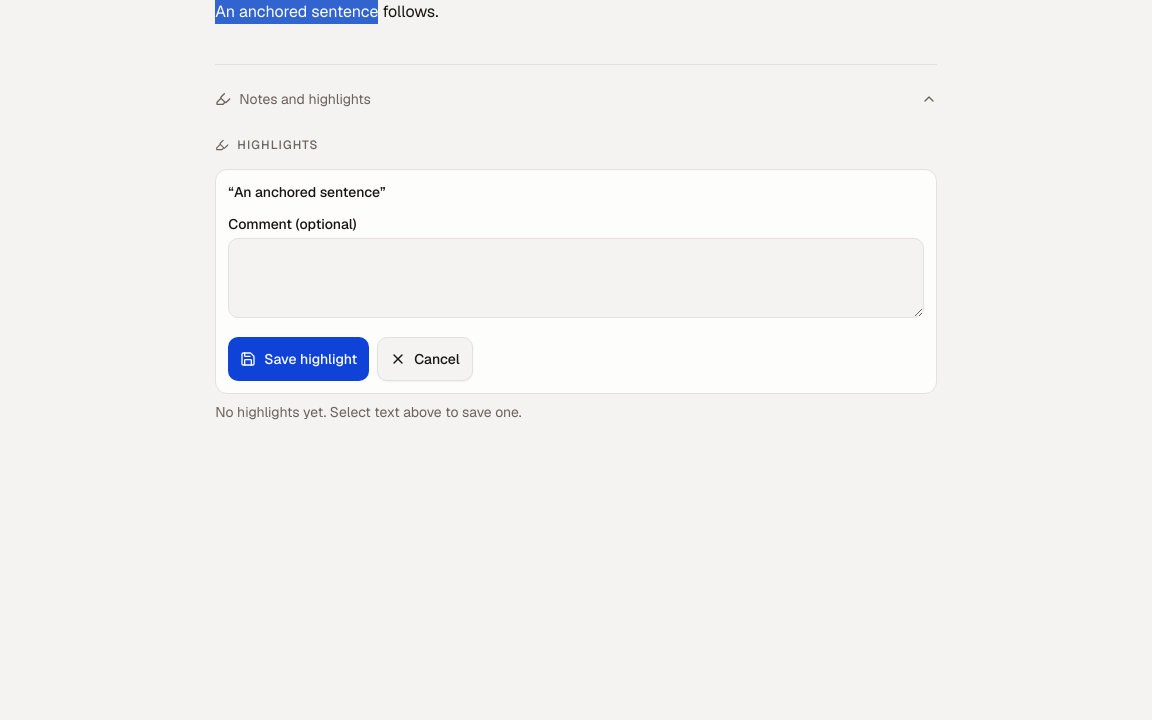
Scenario: ReaderAnnotations › waits for an in-flight stale annotation read before creating a highlight
The width and height of the screenshot is (1152, 720).
Click the button "Save highlight" at (299, 359), box [228,337,369,381]
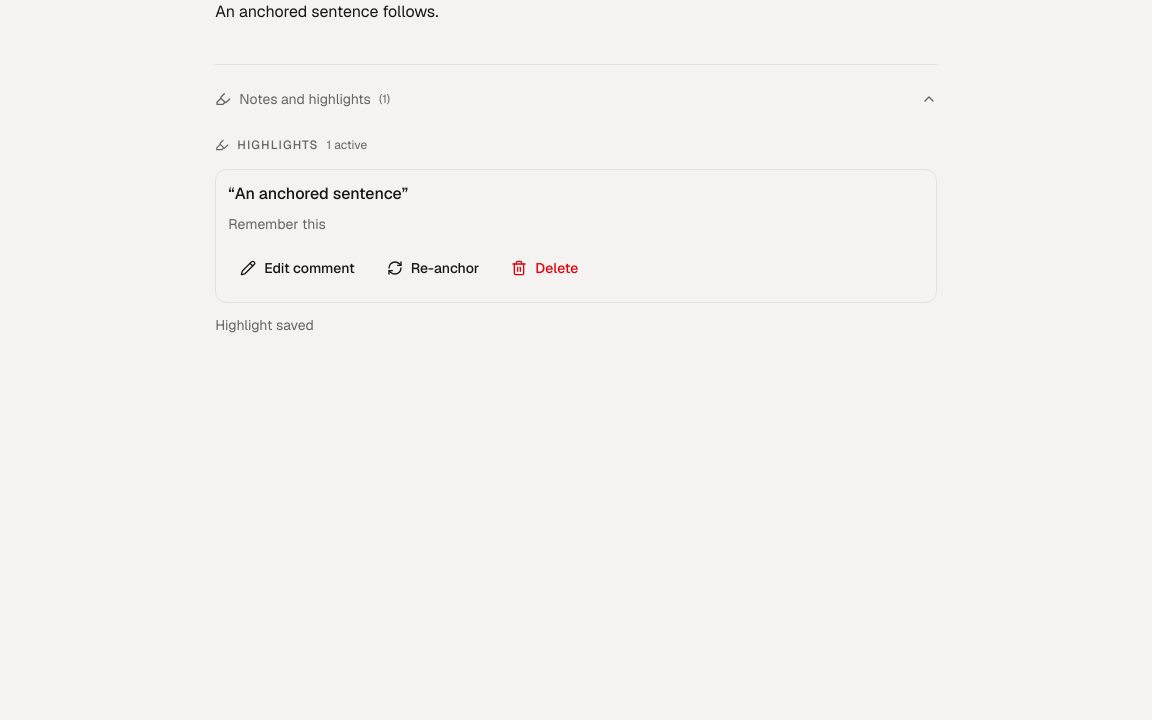
Expected: the text "Highlight saved" is shown, [215,316,314,334]
Expected: the text "Remember this" is shown, [228,215,326,233]
